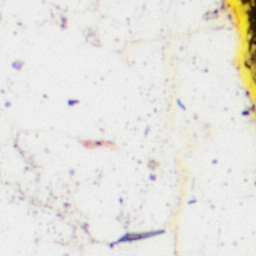cement_matrix: (243, 0, 255, 60)
cracks: (225, 0, 255, 116)
gravel_crushed_stones: (0, 0, 255, 255)
